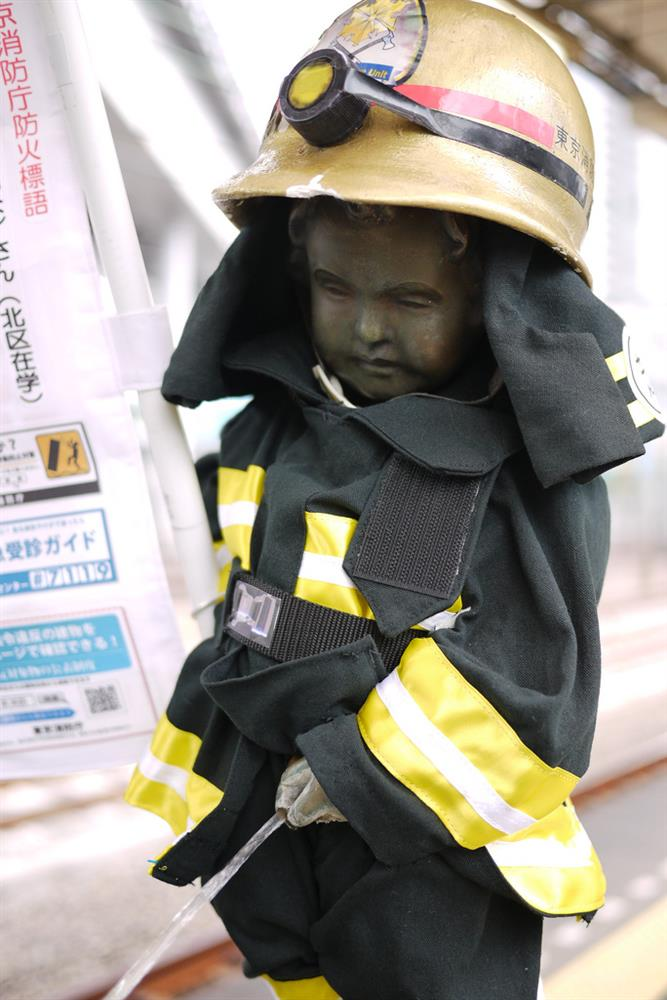Manneken_Pis: (170, 7, 612, 979)
